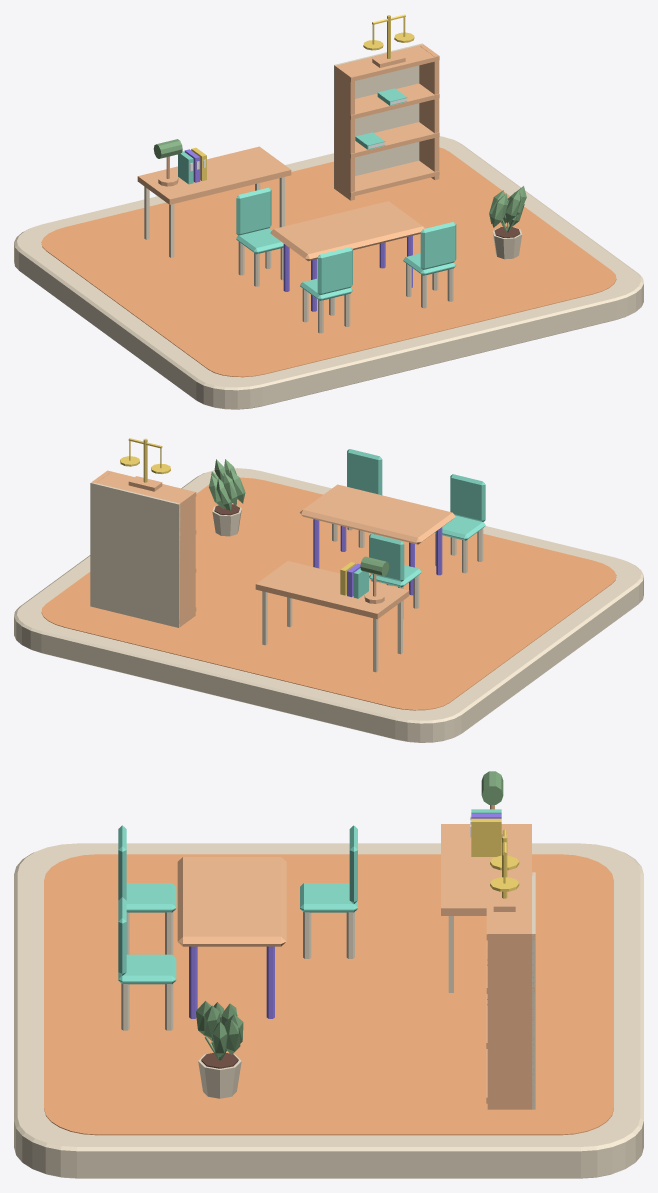
File: room.fbx
3 views of the same model, one above another, from view 1: azimuth 30°, elevation 25°; view 2: azimuth 150°, elevation 25°; view 3: azimuth 270°, elevation 25° (orthographic). The views are drawn at different scales.
Parts seen in each view (by area): view 1: COM-02 Floor Surface, COM-01 Rounded Base Direct, Top, Rounded table top, Back, Side, Side.001, Pot, Shelf, Backrest.001, Backrest, Backrest.002 (+4 smaller); view 2: COM-02 Floor Surface, COM-01 Rounded Base Direct, Back, Top, Rounded table top, Side, Pot, Backrest, Backrest.001, Backrest.002, Shelf.003, Seat (+1 smaller); view 3: COM-02 Floor Surface, COM-01 Rounded Base Direct, Rounded table top, Side.001, Top, Pot, Shelf.003, Seat.001, Seat.002, Seat, File.002, Back (+6 smaller).
Boxes of the visible parts, <box> form: COM-02 Floor Surface: <box>41,147,616,377</box>; COM-01 Rounded Base Direct: <box>14,136,643,409</box>; Top: <box>137,146,291,257</box>; Rounded table top: <box>270,201,425,261</box>; Back: <box>334,43,422,188</box>; Side: <box>334,65,354,200</box>; Side.001: <box>419,44,439,179</box>; Pot: <box>489,186,526,259</box>; Shelf: <box>334,160,439,196</box>; Backrest.001: <box>420,222,456,269</box>; Backrest: <box>317,247,352,295</box>; Backrest.002: <box>236,187,271,235</box>; COM-02 Floor Surface: <box>41,477,616,710</box>; COM-01 Rounded Base Direct: <box>14,468,643,742</box>; Back: <box>90,482,180,627</box>; Top: <box>255,561,409,672</box>; Rounded table top: <box>300,484,455,544</box>; Side: <box>176,491,195,626</box>; Pot: <box>209,459,245,536</box>; Backrest: <box>450,474,485,521</box>; Backrest.001: <box>347,449,382,495</box>; Backrest.002: <box>369,533,404,581</box>; Shelf.003: <box>96,470,196,508</box>; Seat: <box>434,515,485,540</box>; COM-02 Floor Surface: <box>44,854,613,1135</box>; COM-01 Rounded Base Direct: <box>14,843,643,1178</box>; Rounded table top: <box>177,857,286,946</box>; Side.001: <box>487,930,533,1109</box>; Top: <box>441,824,531,992</box>; Pot: <box>196,1001,243,1098</box>; Shelf.003: <box>486,872,534,940</box>; Seat.001: <box>118,954,176,984</box>; Seat.002: <box>300,883,357,912</box>; Seat: <box>126,883,176,912</box>; File.002: <box>471,818,501,856</box>; Back: <box>532,872,535,1109</box>.
Bounding box in the file's own units: 600 × 250 × 520.
